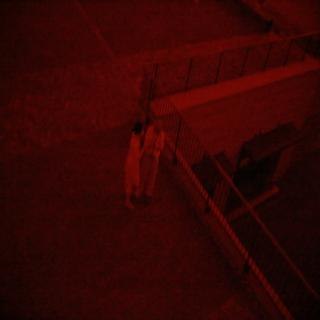person: (115, 115, 147, 209), (142, 113, 167, 208)
